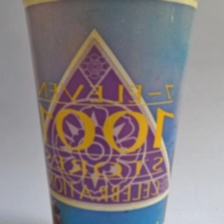glass: (8, 0, 203, 224)
